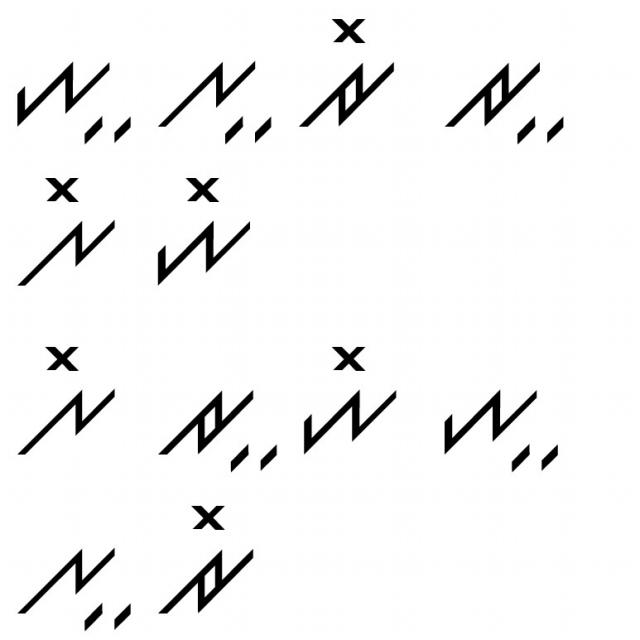lah: (11, 532, 138, 632), (158, 54, 283, 154)
lo: (10, 340, 121, 466), (13, 170, 124, 292)
rah: (146, 372, 288, 477), (444, 43, 570, 153)
ro: (158, 496, 263, 624), (300, 12, 398, 138)
yah: (432, 364, 565, 479), (6, 46, 136, 151)
yo: (150, 162, 257, 288), (300, 340, 402, 456)
